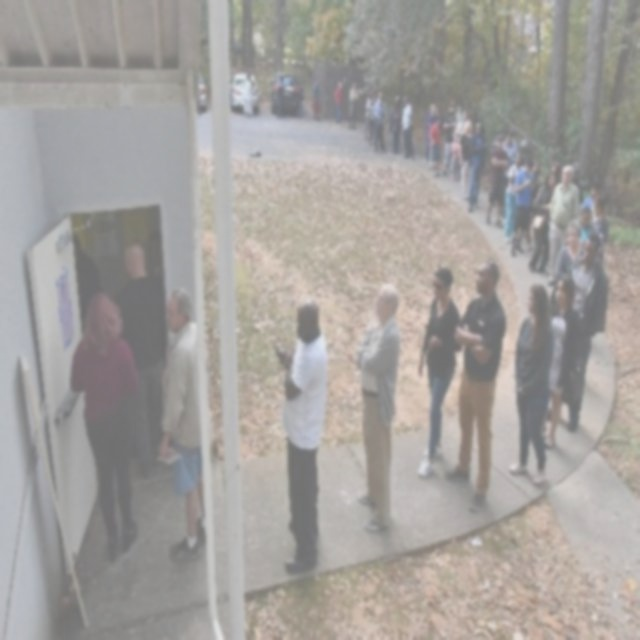pessoa: (68, 290, 141, 564), (442, 253, 509, 516), (272, 294, 331, 576), (157, 284, 209, 564), (116, 239, 170, 483), (351, 282, 401, 534), (414, 262, 466, 480), (507, 278, 557, 486), (564, 232, 610, 434), (540, 276, 580, 450), (546, 164, 580, 288), (528, 170, 558, 278), (508, 153, 538, 260), (484, 132, 511, 229), (514, 147, 536, 243), (466, 118, 488, 214), (504, 152, 526, 245), (70, 235, 98, 308), (554, 218, 584, 281), (456, 118, 474, 196), (523, 161, 538, 254), (108, 230, 129, 294), (422, 99, 440, 166), (442, 102, 458, 177), (590, 190, 610, 248), (400, 94, 416, 162), (373, 89, 388, 155), (577, 197, 597, 244), (150, 228, 168, 278), (428, 115, 442, 178), (570, 160, 586, 206), (448, 130, 462, 182), (579, 182, 600, 216), (363, 84, 375, 142), (347, 80, 359, 132), (367, 91, 377, 148), (332, 79, 344, 126), (310, 75, 322, 122), (275, 72, 287, 119), (242, 72, 255, 115), (454, 109, 468, 148), (294, 77, 306, 121), (452, 102, 466, 138), (194, 72, 204, 120), (375, 92, 387, 126), (501, 131, 518, 154), (547, 162, 563, 185), (390, 94, 402, 116)
